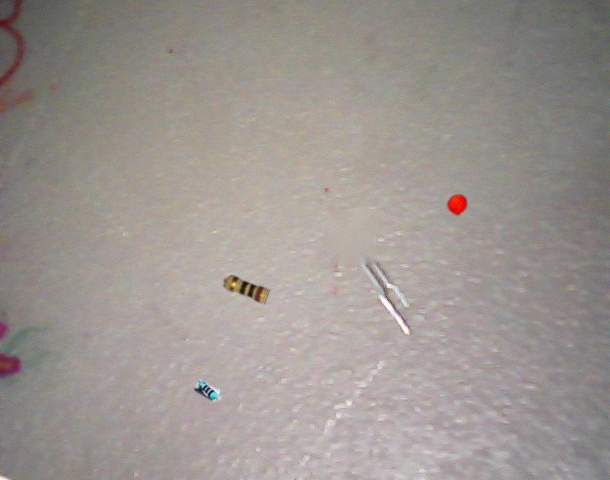capacitor: (447, 195, 467, 215)
resistor: (223, 274, 270, 304), (194, 380, 220, 402)
